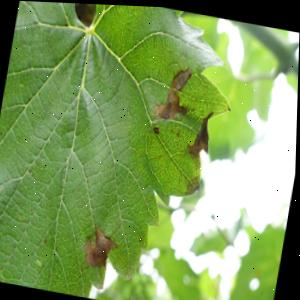Folha: (0, 0, 247, 300)
Fungo: (153, 59, 195, 124), (83, 224, 122, 271), (186, 105, 217, 159), (155, 125, 162, 133), (176, 128, 182, 135), (45, 238, 50, 244)
